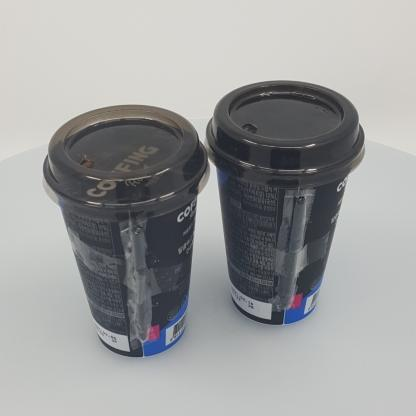---------: (43, 105, 210, 358), (204, 80, 365, 326)
